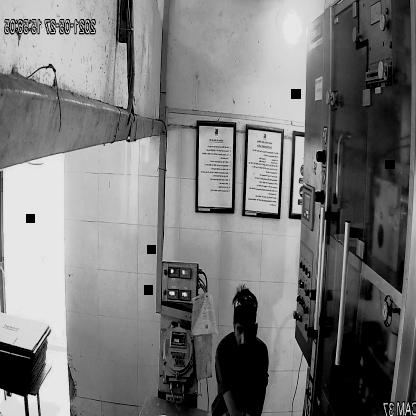no_goggles: (232, 320, 260, 341)
